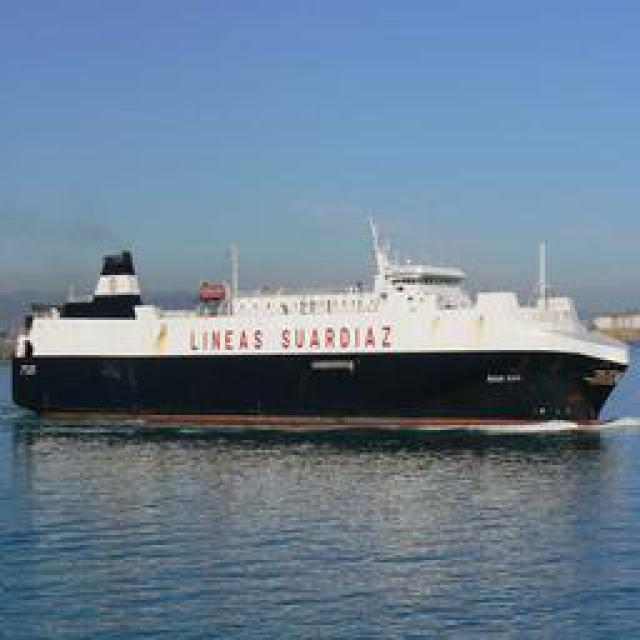Ship: (21, 211, 631, 429)
